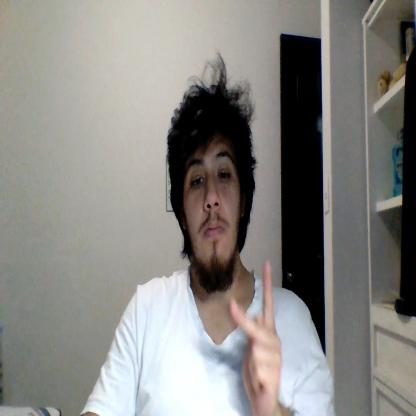P: (229, 261, 282, 415)
